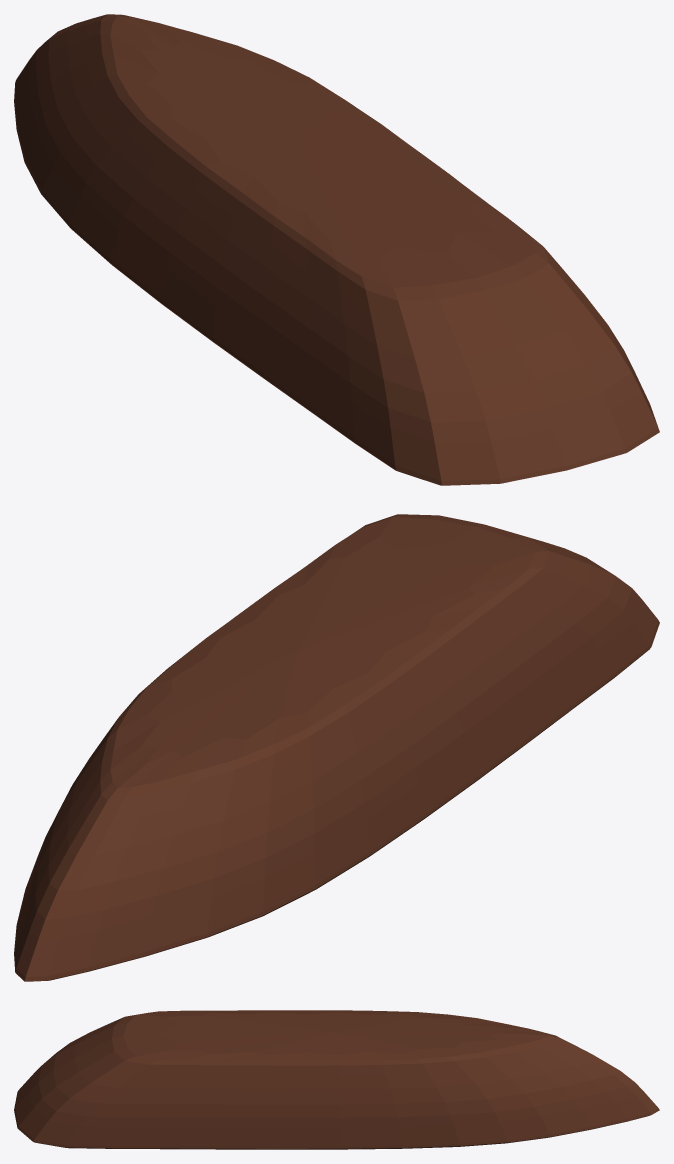
File: boat.fbx
3 renders of one model, top to bottom at view 1: azimuth 30°, elevation 25°; view 2: azimuth 150°, elevation 25°; view 3: azimuth 270°, elevation 25°, orthographic. The views are drawn at different scales.
Parts seen in each view (by area): view 1: Circle; view 2: Circle; view 3: Circle.
Part boxes in pixels (box(x1,y1,x2,y2)): Circle: box(14, 14, 659, 485); Circle: box(14, 514, 659, 981); Circle: box(14, 1010, 659, 1149).
Size of the model in its own units: 192 by 91.73 by 677.
